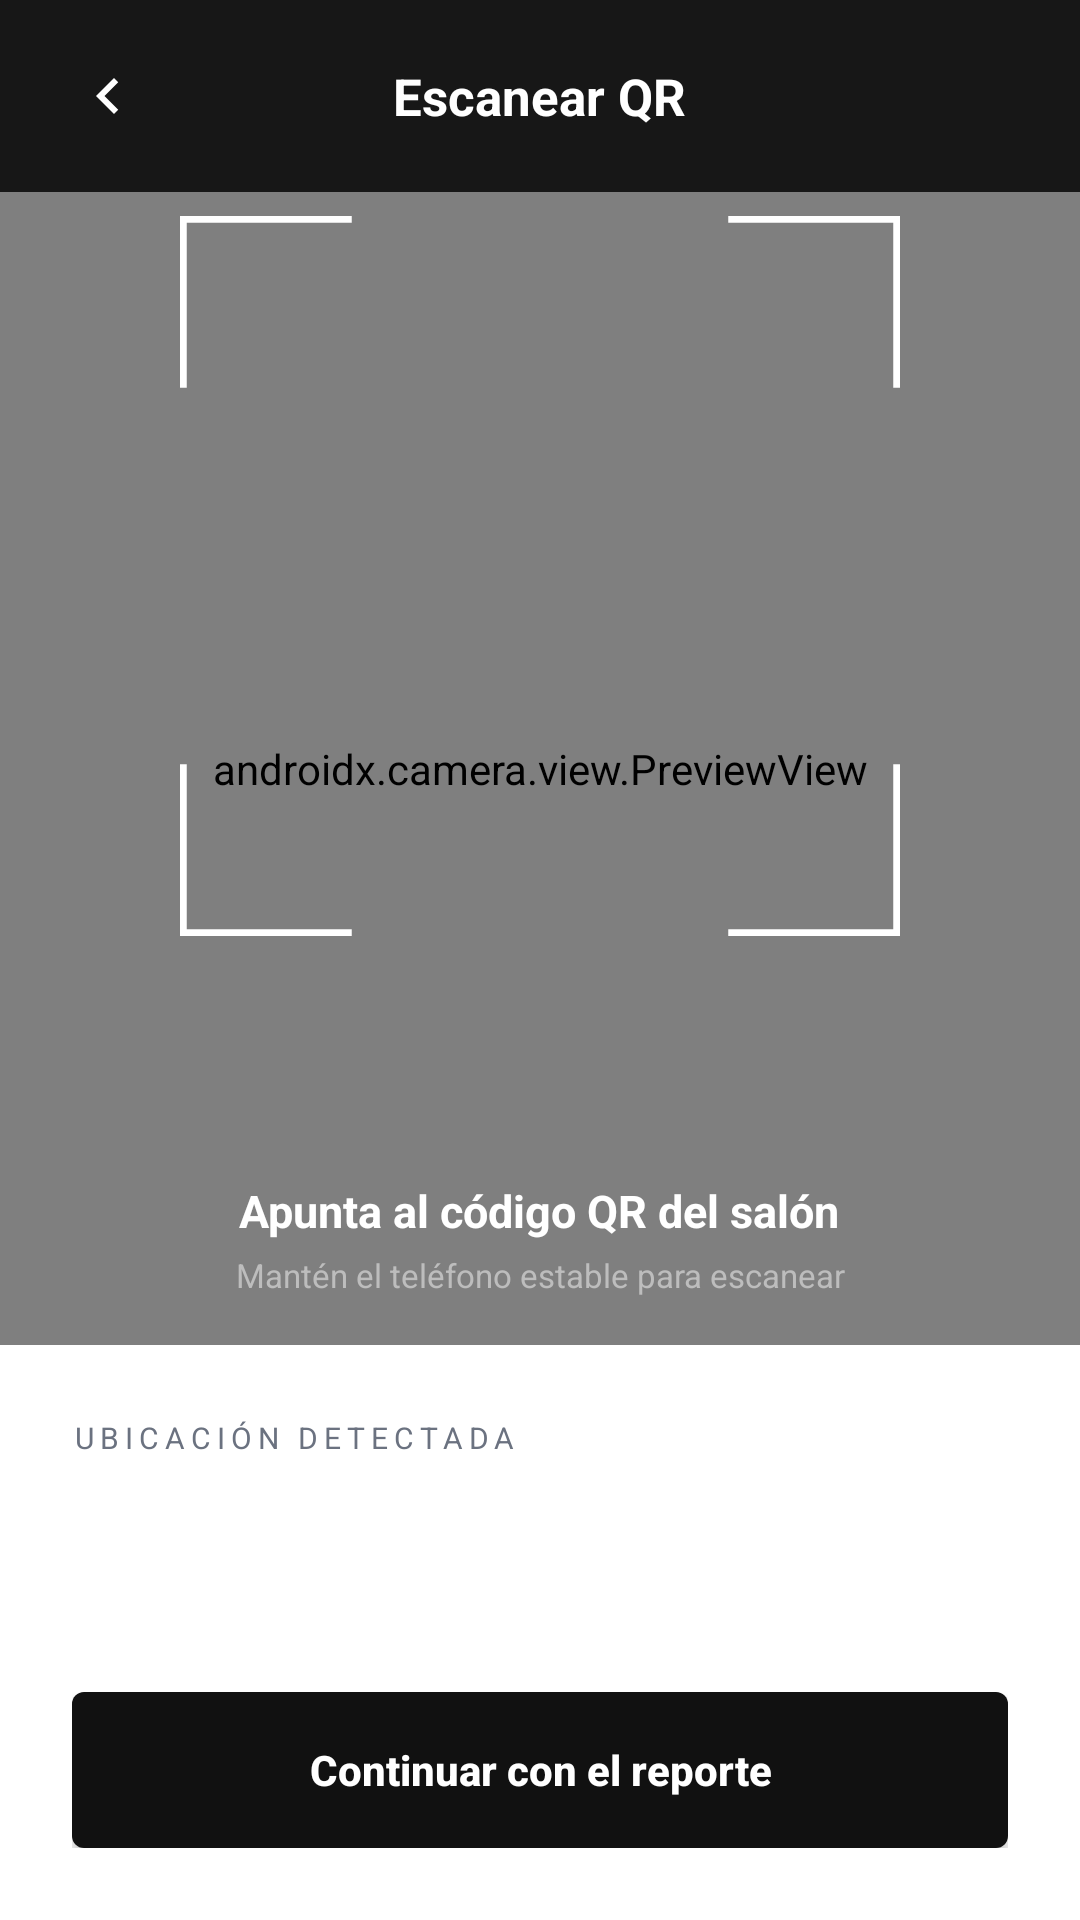

Locate icon controls on the screen. Image size 1080 × 1920, boxes as (x1=x1, y1=y1, x2=x2, y2=y2).
Regresar: (x1=96, y1=78, x2=118, y2=114)
